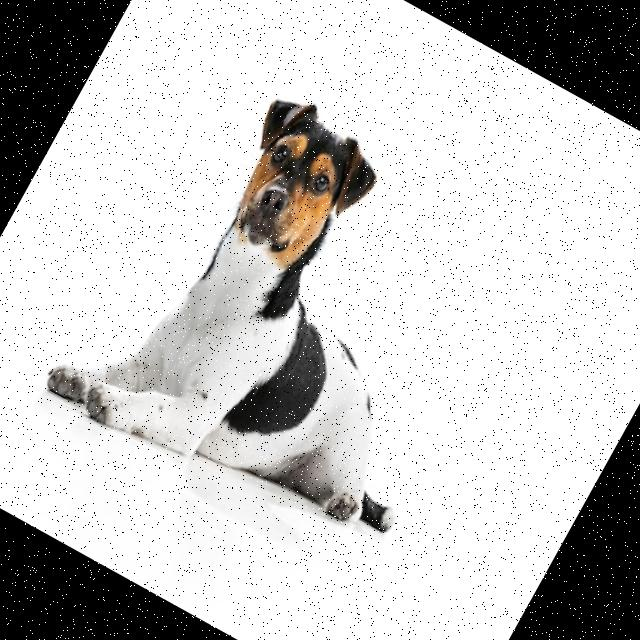Dog: (38, 53, 554, 572)
